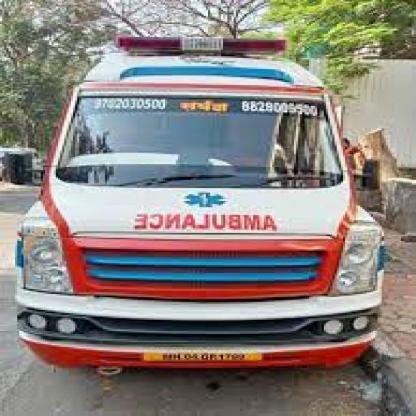priority: (17, 27, 390, 375)
